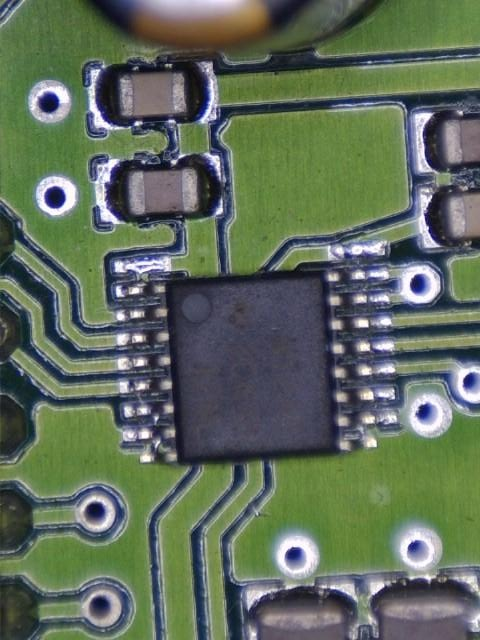pcb_defect: (110, 239, 399, 465)
